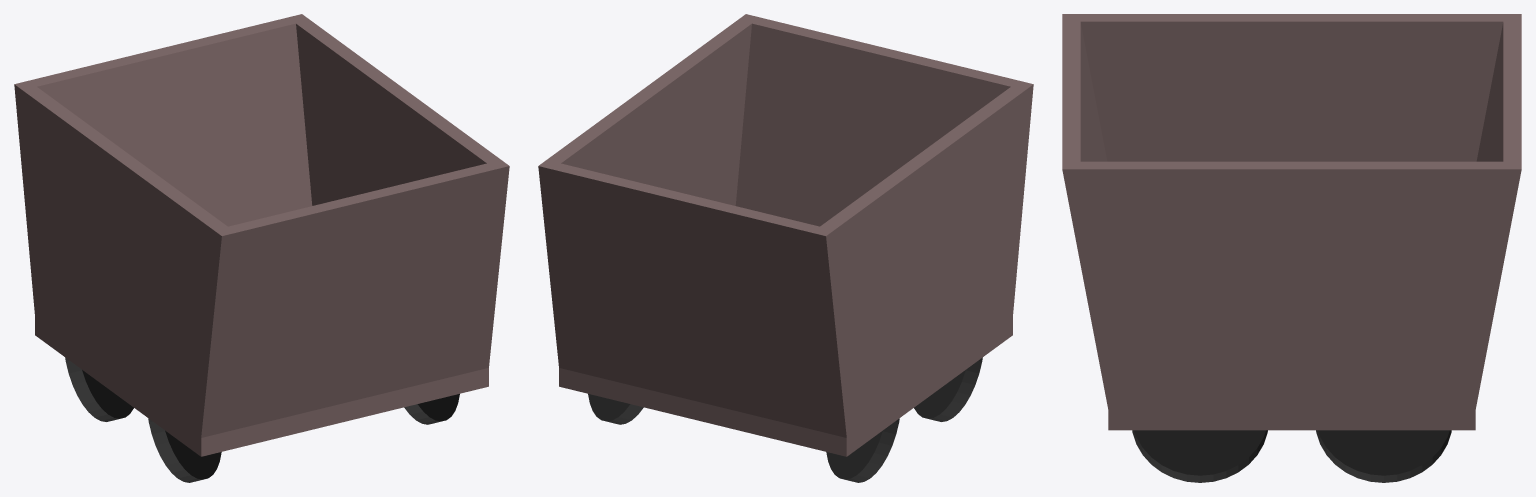
Rendered from Minecart.obj.
The picture shows the model from 3 angles, left to right: view 1: azimuth 30°, elevation 25°; view 2: azimuth 150°, elevation 25°; view 3: azimuth 270°, elevation 25°; orthographic projection. The views are drawn at different scales.
Parts seen in each view (by area): view 1: Cube; view 2: Cube; view 3: Cube.
Part boxes in pixels (x1,y1,x2,y2): Cube: (14,14,509,482); Cube: (538,14,1033,482); Cube: (1062,14,1521,482).
Size of the model in its own units: 4 by 3.88 by 5.
